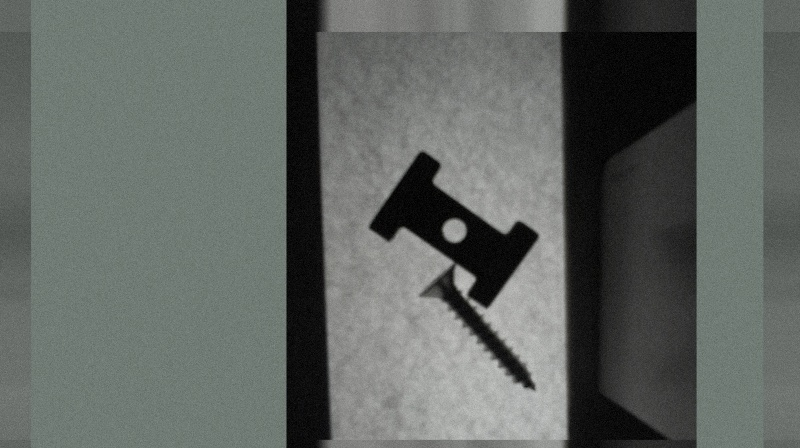O002: (367, 149, 535, 303)
S001: (414, 260, 539, 394)
